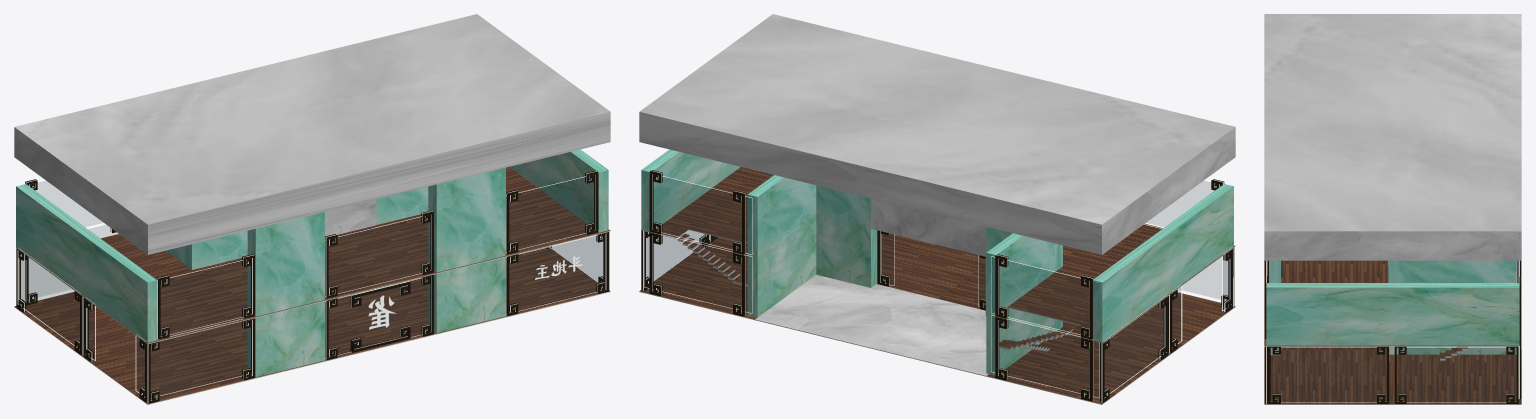
Rendered from building_4x2.glb.
The picture shows the model from 3 angles, left to right: view 1: azimuth 30°, elevation 25°; view 2: azimuth 150°, elevation 25°; view 3: azimuth 270°, elevation 25°; orthographic projection. The views are drawn at different scales.
Visible parts, largest first — view 1: Cube, floorback, floorback_l2, solidwall, solidwall.001, solidwall.013_r_l2, glass_back.001, glass_backright, glass_back_left, glass_back, glass_backright.001, glass_back_left.001 (+10 smaller); view 2: Cube, floorfront, solidwall.013_r_l2, floorback, solidwall_front_left_vert, floorright, solidwall_front_right_vert, glass_fr, glass_fl, solidwall_front_left, glass_fl.001, glass_fr.001 (+14 smaller); view 3: Cube, solidwall.012_l_l2, floorback, glass_l2, glass_l1, floorleft, solidwall_front_left_vert, floorback_l2, solidwall_front_left, deco.019, deco.018, deco.001 (+3 smaller).
Boxes of the visible parts, x1,y1,x2,y2 form: Cube: (14, 14, 610, 254); floorback: (81, 247, 610, 404); floorback_l2: (81, 184, 610, 344); solidwall: (428, 167, 505, 332); solidwall.001: (247, 212, 324, 376); solidwall.013_r_l2: (16, 184, 157, 342); glass_back.001: (325, 216, 430, 296); glass_backright: (151, 318, 251, 398); glass_back_left: (506, 233, 605, 314); glass_back: (325, 278, 430, 358); glass_backright.001: (161, 259, 251, 334); glass_back_left.001: (506, 173, 598, 252); Cube: (639, 14, 1235, 254); floorfront: (755, 274, 988, 376); solidwall.013_r_l2: (1092, 184, 1233, 342); floorback: (709, 233, 1235, 355); solidwall_front_left_vert: (747, 175, 816, 317); floorright: (986, 329, 1168, 404); solidwall_front_right_vert: (986, 233, 1054, 375); glass_fr: (991, 315, 1099, 398); glass_fl: (644, 231, 752, 313); solidwall_front_left: (816, 185, 877, 287); glass_fl.001: (649, 173, 752, 254); glass_fr.001: (991, 256, 1098, 339); Cube: (1264, 14, 1521, 260); solidwall.012_l_l2: (1266, 283, 1519, 345); floorback: (1264, 346, 1392, 404); glass_l2: (1397, 347, 1515, 402); glass_l1: (1271, 347, 1386, 402); floorleft: (1393, 350, 1521, 404); solidwall_front_left_vert: (1403, 260, 1516, 354); floorback_l2: (1264, 260, 1392, 346); solidwall_front_left: (1388, 260, 1403, 354); deco.019: (1506, 346, 1518, 403); deco.018: (1394, 346, 1406, 403); deco.001: (1268, 346, 1280, 403).
Size of what is drawn, in the model's own units: 64 by 23.82 by 32.
14 materials, 10 textured.
